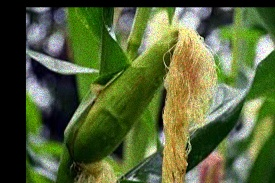corn_plant: (72, 21, 209, 161)
